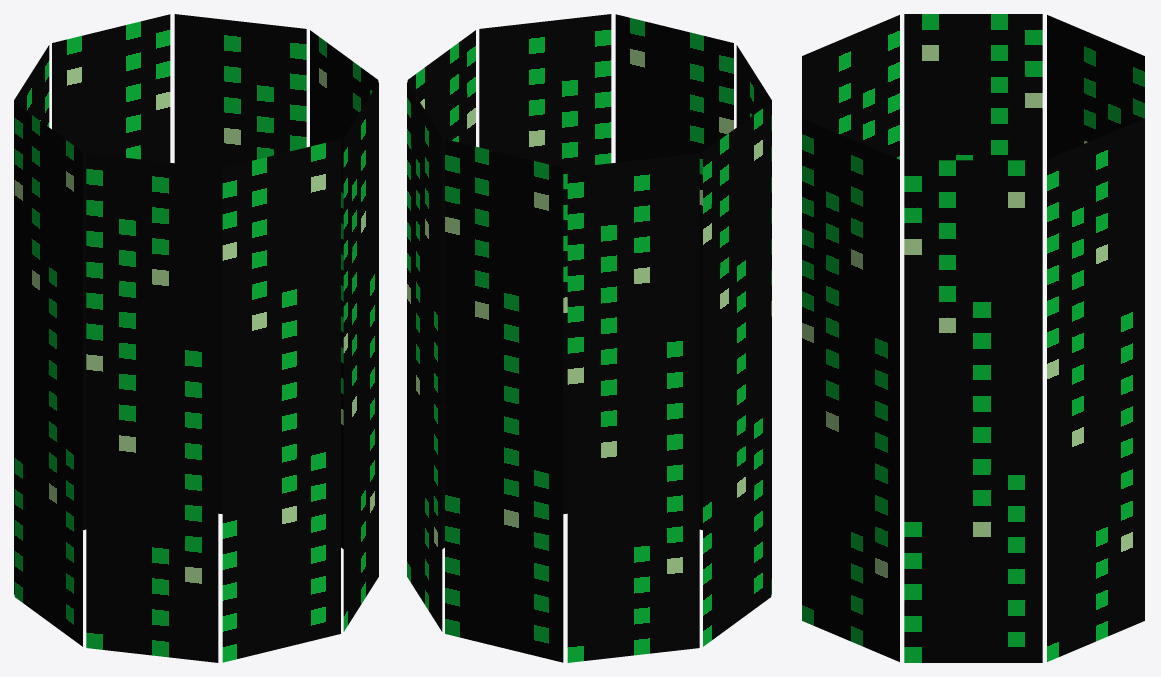
Rendered from sl_hacker_aura.glb.
3 renders of one model, left to right at view 1: azimuth 30°, elevation 25°; view 2: azimuth 150°, elevation 25°; view 3: azimuth 270°, elevation 25°, orthographic.
Parts seen in each view (by area): view 1: bb_hacker_aura; view 2: bb_hacker_aura; view 3: bb_hacker_aura.
Part boxes in pixels (x1=…): bb_hacker_aura: x1=14, y1=14, x2=378, y2=662; bb_hacker_aura: x1=407, y1=14, x2=771, y2=662; bb_hacker_aura: x1=802, y1=14, x2=1144, y2=662.
Size of the model in its own units: 1.25 by 2 by 1.25.
1 material, 1 textured.
